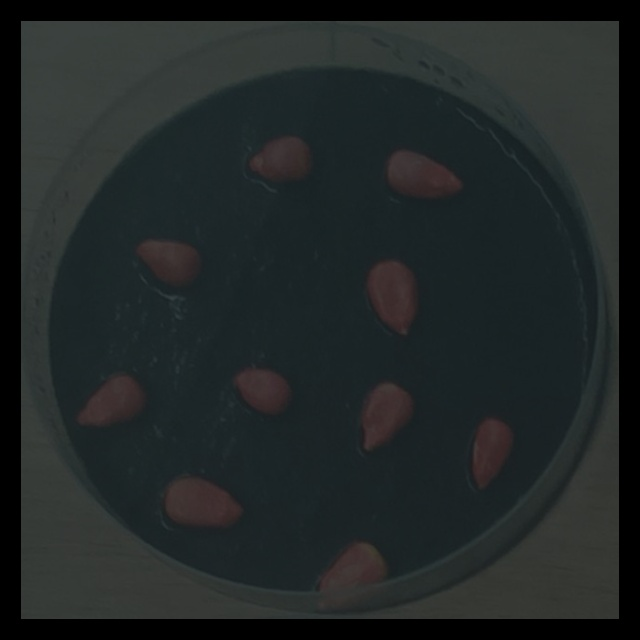Zea mays: (312, 534, 397, 618), (157, 470, 250, 536), (379, 143, 472, 207), (361, 254, 424, 341), (356, 376, 422, 459), (72, 368, 153, 435), (463, 412, 521, 499), (242, 130, 321, 192), (131, 233, 209, 295), (228, 362, 298, 422)
